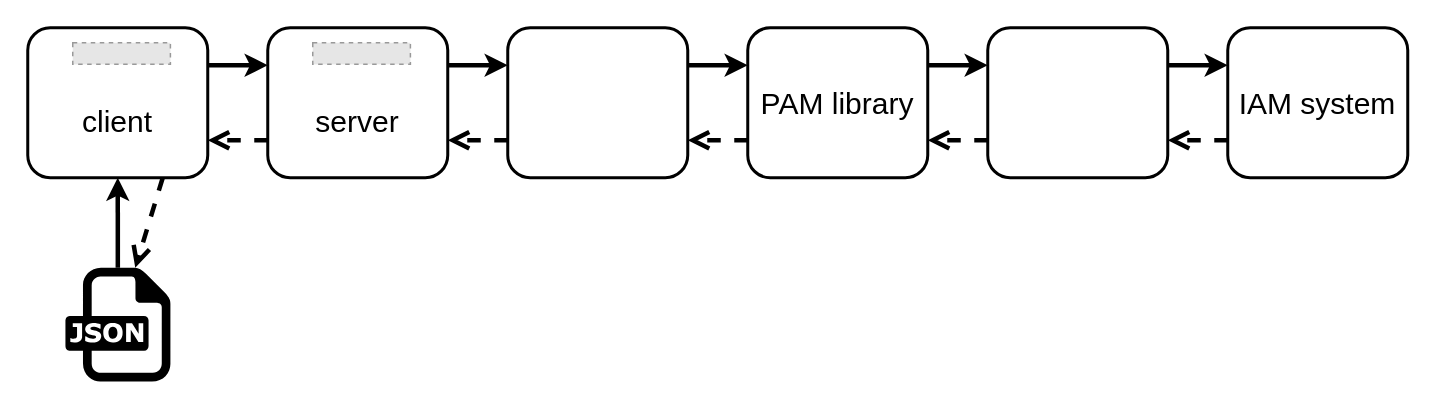
This 1434x408 diagram has some shape labels left out. Grey dashed boxes stand in for pictures. The centre of each missing label's shape, as x and y in pixels:
"PAM handshake service" belongs at point (597, 102).
"PAM stack" belongs at point (1077, 102).
